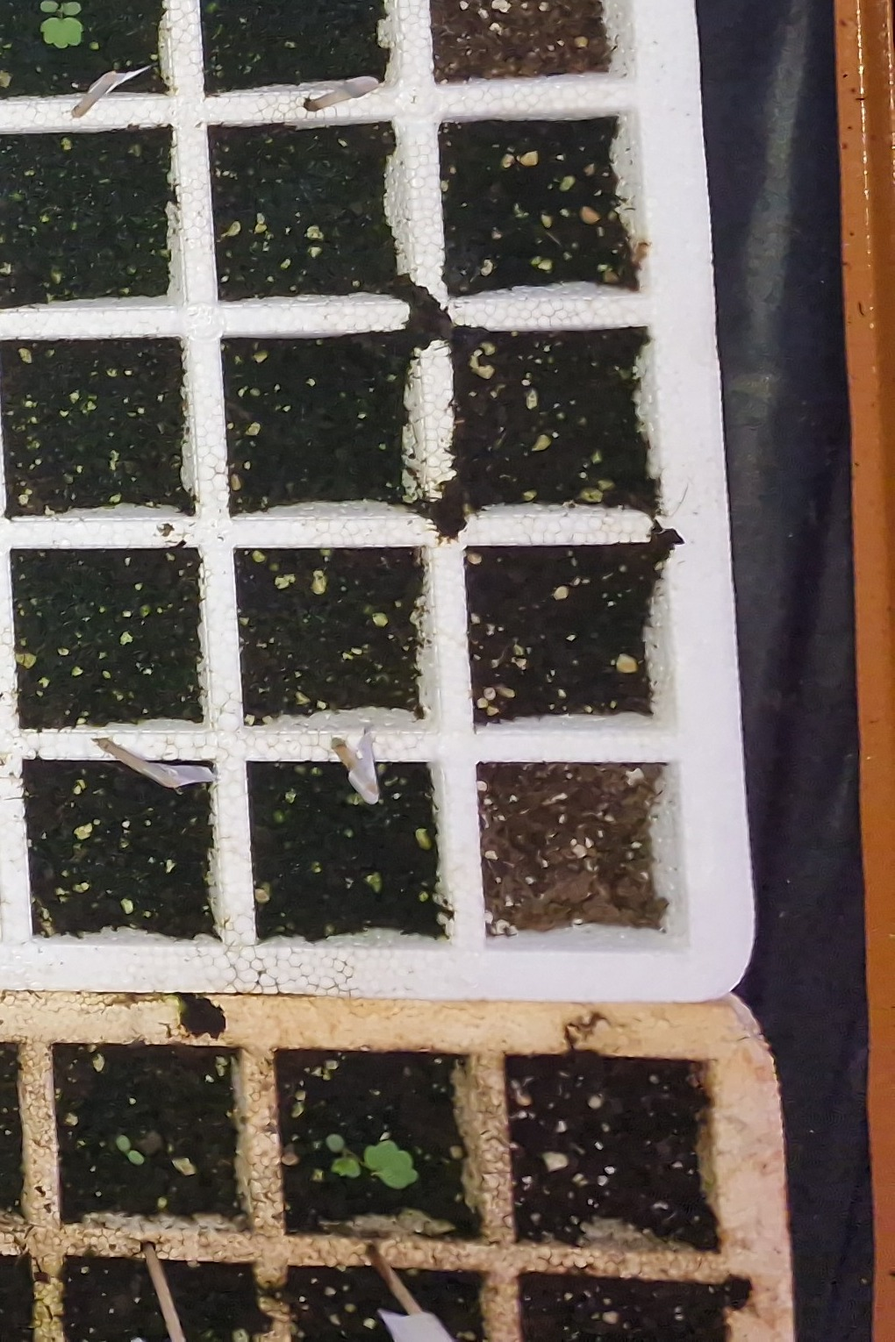Folha: (40, 18, 82, 48), (40, 0, 58, 12), (64, 2, 81, 14)
Germinacao: (40, 0, 84, 48)
